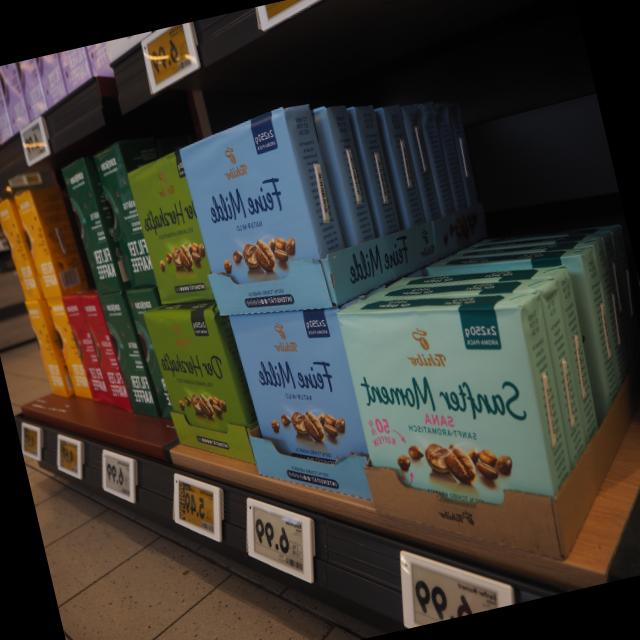Empty Shelf: (300, 75, 532, 308)
FM Gemahlen: (176, 105, 333, 314), (225, 311, 373, 501)
Herzhatfe Mundig: (142, 304, 258, 461), (123, 148, 214, 307)
SM Gemahlen: (332, 305, 564, 560)
